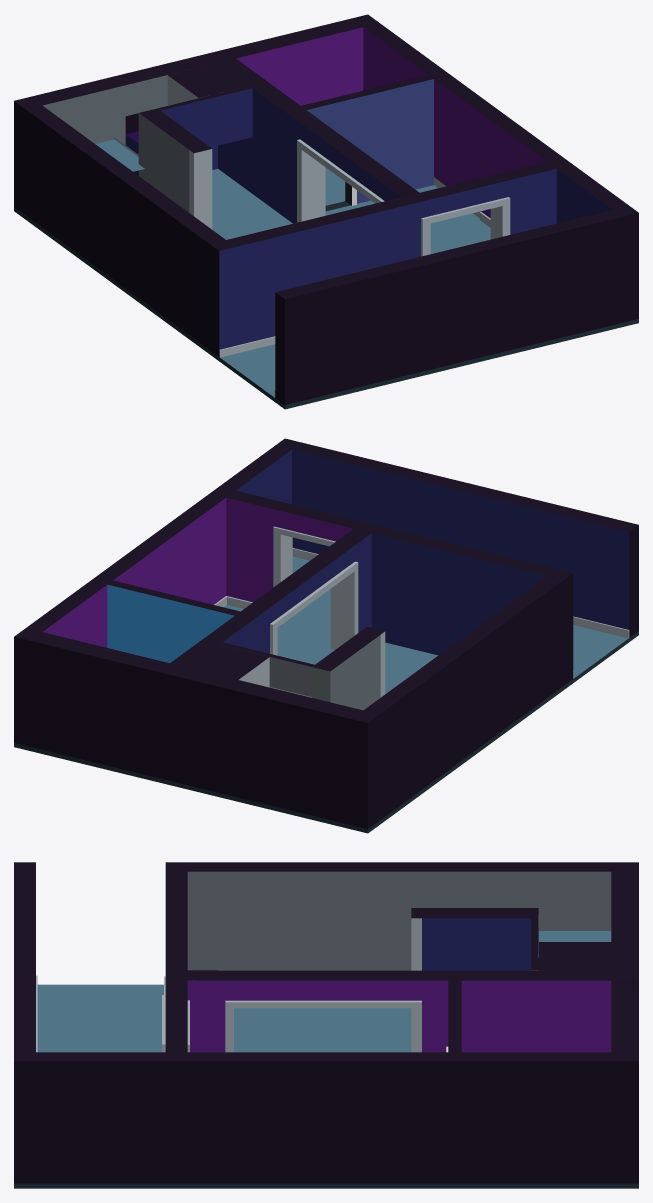
The model's file is House_FirstFloor.fbx.
The picture shows the model from 3 angles, top to bottom: view 1: azimuth 30°, elevation 25°; view 2: azimuth 150°, elevation 25°; view 3: azimuth 270°, elevation 25°; orthographic projection. The views are drawn at different scales.
Visible parts, largest first — view 1: Cube.055; view 2: Cube.055; view 3: Cube.055.
Part boxes in pixels (<box>): Cube.055: <box>14,14,638,409</box>; Cube.055: <box>14,438,638,833</box>; Cube.055: <box>14,862,638,1188</box>.
Size of the model in its own units: 1034 by 308 by 1371.
